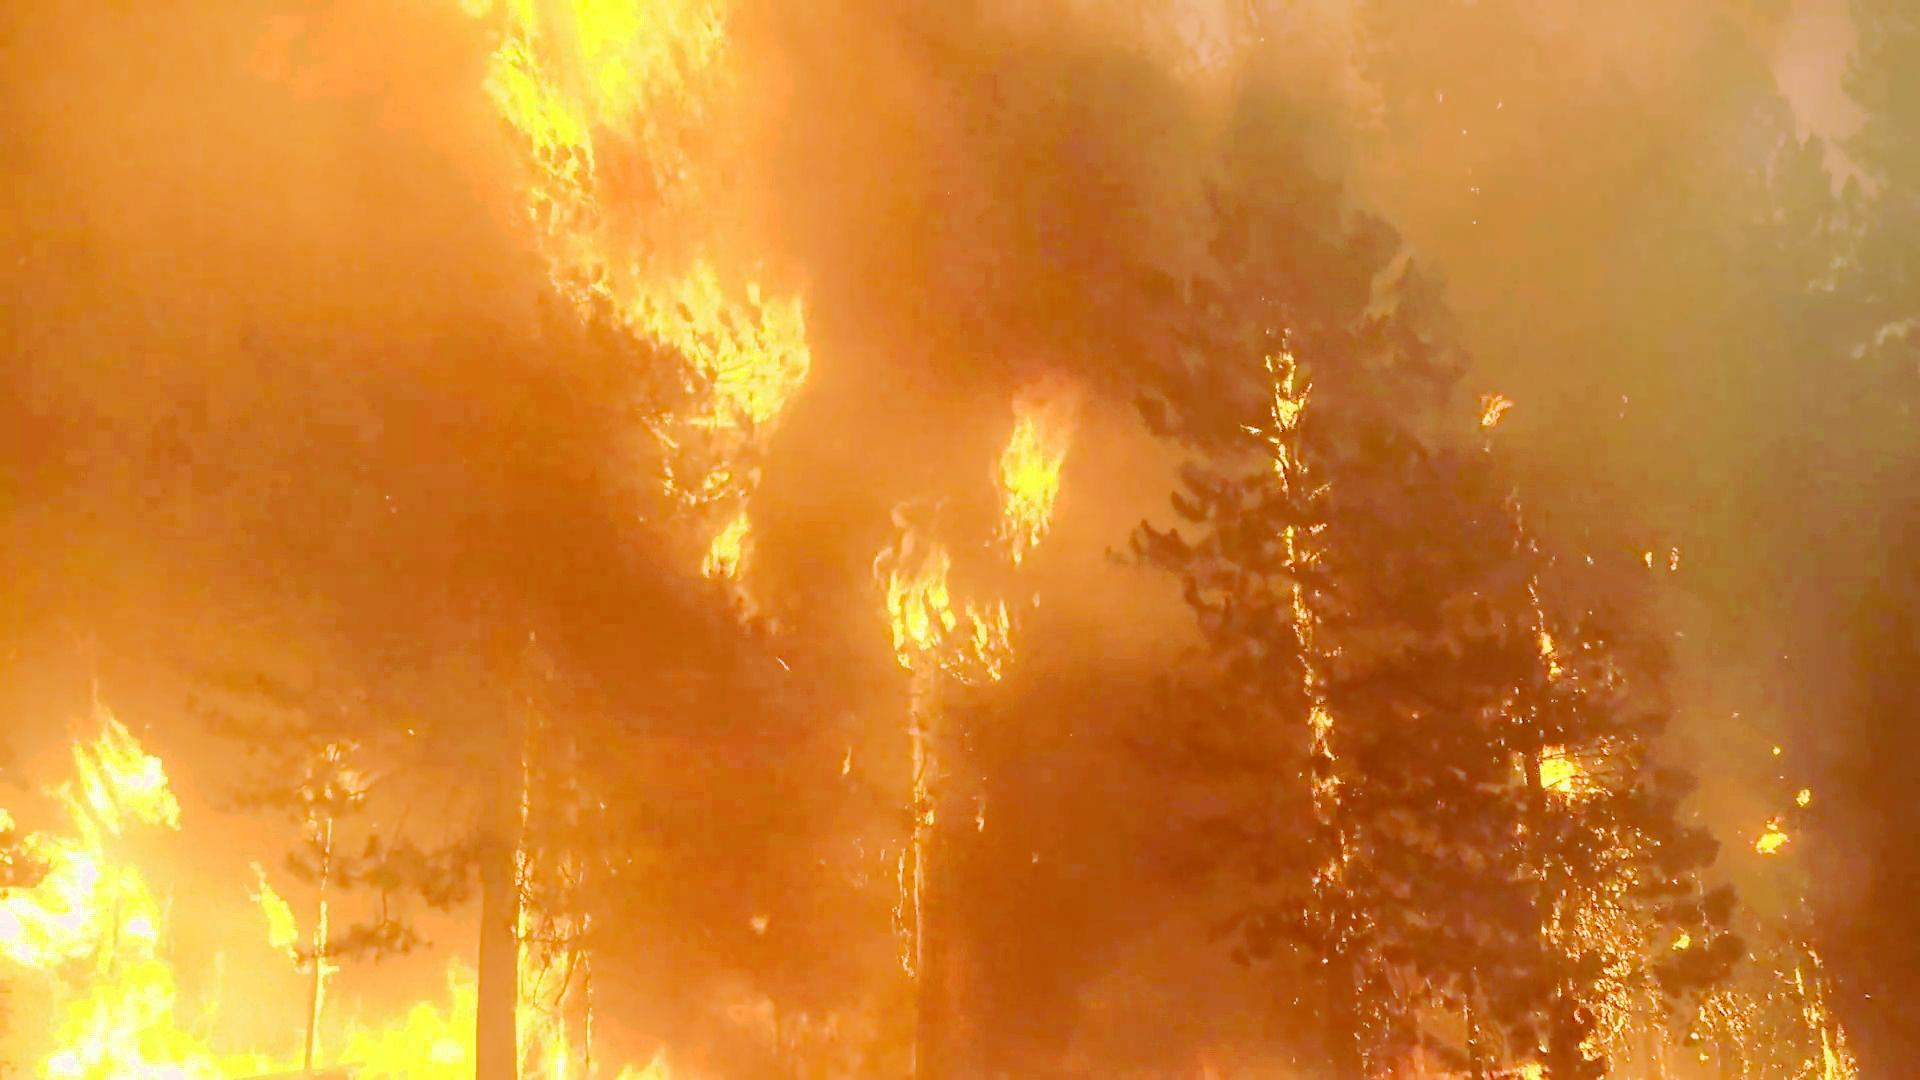fire: (431, 0, 800, 410), (0, 713, 262, 1080), (865, 393, 1083, 666), (260, 926, 600, 1080)
